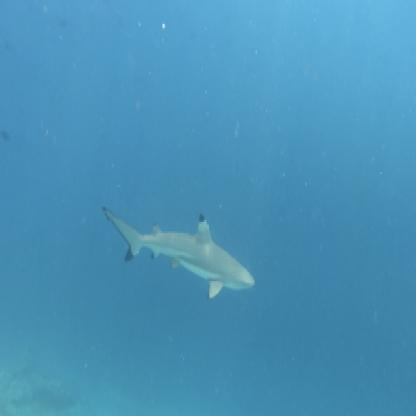shark: (98, 197, 262, 310)
